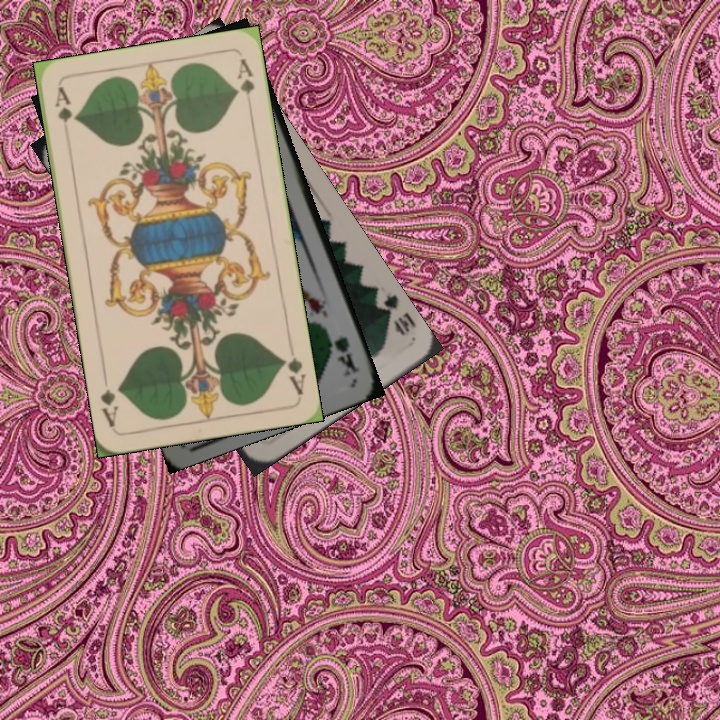G10: (370, 289, 418, 339)
GA: (277, 339, 308, 398), (51, 83, 75, 125)
GK: (330, 332, 362, 379)
